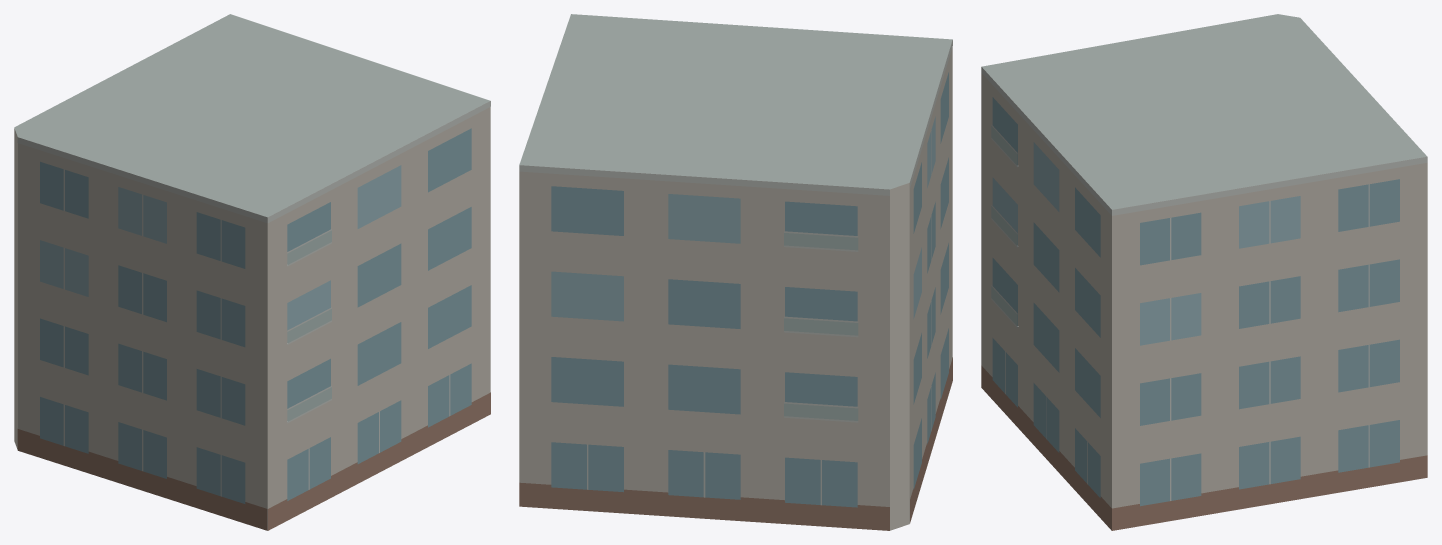
File: survey-upis-32851178.glb
3 views of the same model, side by side, from view 1: azimuth 30°, elevation 25°; view 2: azimuth 150°, elevation 25°; view 3: azimuth 270°, elevation 25° (orthographic). The views are drawn at different scales.
Parts seen in each view (by area): view 1: survey-upis-32851178.tmp; view 2: survey-upis-32851178.tmp; view 3: survey-upis-32851178.tmp.
Boxes of the visible parts, box(x1,y1,x2,y2) form: survey-upis-32851178.tmp: box(14, 14, 490, 530); survey-upis-32851178.tmp: box(519, 14, 952, 530); survey-upis-32851178.tmp: box(981, 14, 1427, 530).
Size of the model in its own units: 16.96 by 12.95 by 16.32.
